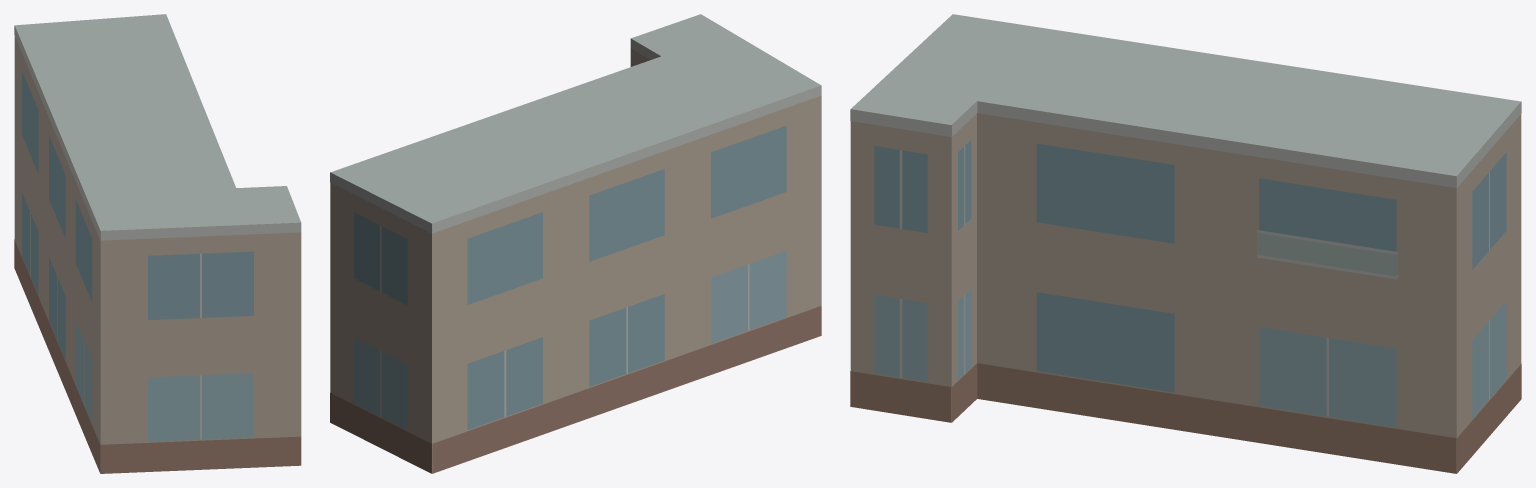
The model's file is survey-upis-32547147.glb.
3 renders of one model, left to right at view 1: azimuth 30°, elevation 25°; view 2: azimuth 150°, elevation 25°; view 3: azimuth 270°, elevation 25°, orthographic. The views are drawn at different scales.
Visible parts, largest first — view 1: survey-upis-32547147.tmp; view 2: survey-upis-32547147.tmp; view 3: survey-upis-32547147.tmp.
Part boxes in pixels (<box>): survey-upis-32547147.tmp: <box>14,14,301,473</box>; survey-upis-32547147.tmp: <box>330,14,821,473</box>; survey-upis-32547147.tmp: <box>850,14,1521,473</box>.
Bounding box in the file's own units: 7.14 × 6.1 × 12.47.
